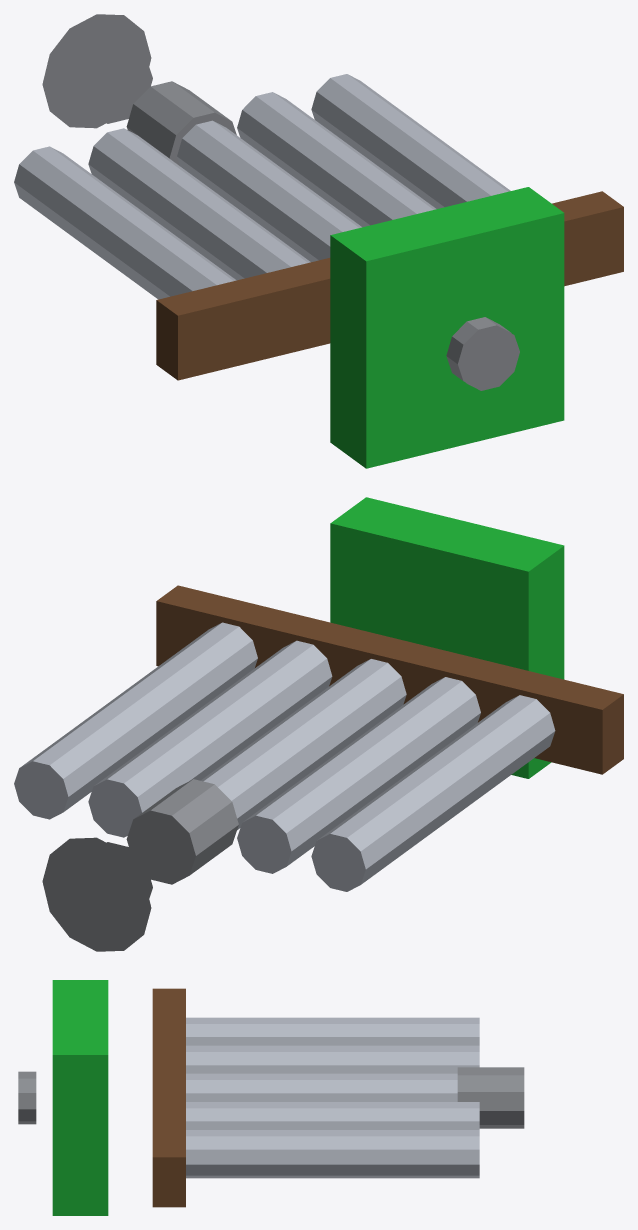
Rendered from SM_WindChime_Green.obj.
The picture shows the model from 3 angles, top to bottom: view 1: azimuth 30°, elevation 25°; view 2: azimuth 150°, elevation 25°; view 3: azimuth 270°, elevation 25°; orthographic projection. The views are drawn at different scales.
Parts seen in each view (by area): view 1: mesh; view 2: mesh; view 3: mesh.
Boxes of the visible parts, box(x1,y1,x2,y2) form: mesh: box(14, 14, 623, 468); mesh: box(14, 497, 623, 951); mesh: box(18, 980, 524, 1215).
Size of the model in its own units: 18 by 8 by 27.5.
